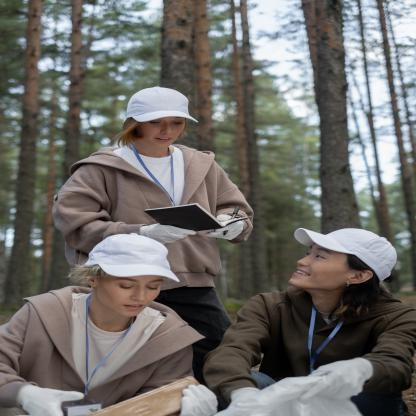Eye: (314, 250, 329, 264), (144, 281, 161, 291), (118, 281, 134, 289), (148, 119, 162, 126), (170, 119, 184, 126), (302, 250, 312, 258)
Mouth: (118, 300, 146, 310), (290, 268, 315, 278), (154, 134, 178, 142)
Nose: (128, 290, 149, 304), (157, 125, 175, 136), (296, 258, 314, 268)
